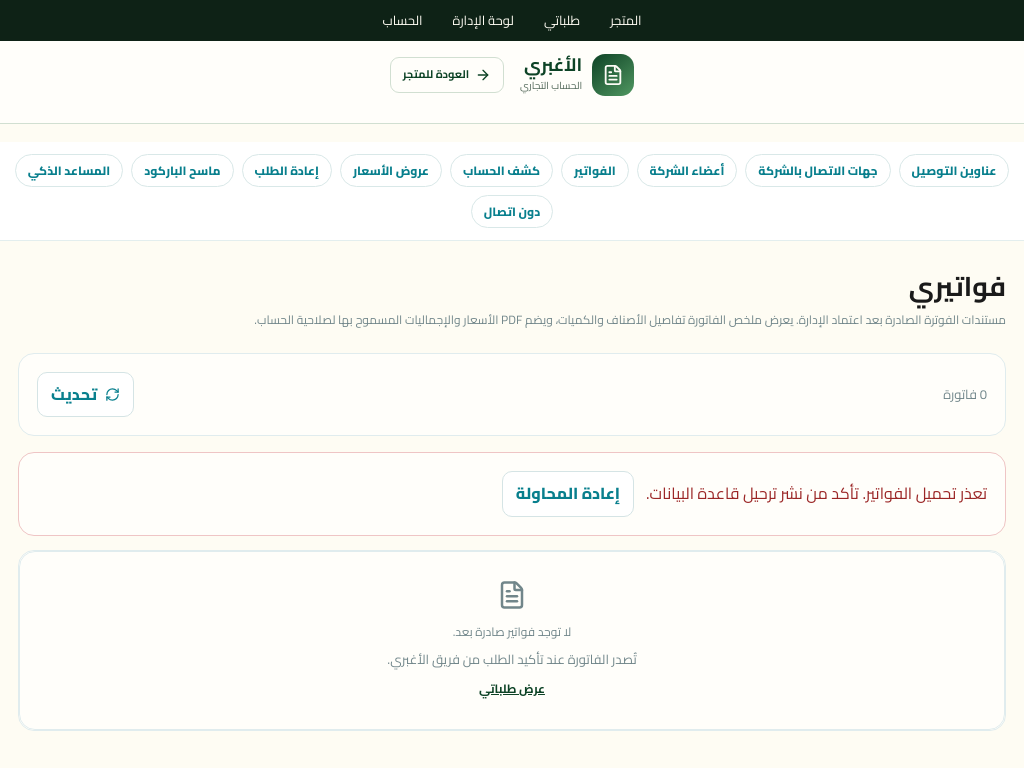
Test: customer invoices real route acceptance › shows a list-read error and recovers through the actual refresh action
Expected: the message "تعذر تحميل الفواتير. تأكد من نشر ترحيل قاعدة البيانات. إعادة المحاولة" is shown, [18, 452, 1006, 536]
Expected: the text "INV-TEST-001" is not shown
Click the button "تحديث".
click(86, 394)  # box [37, 372, 134, 417]
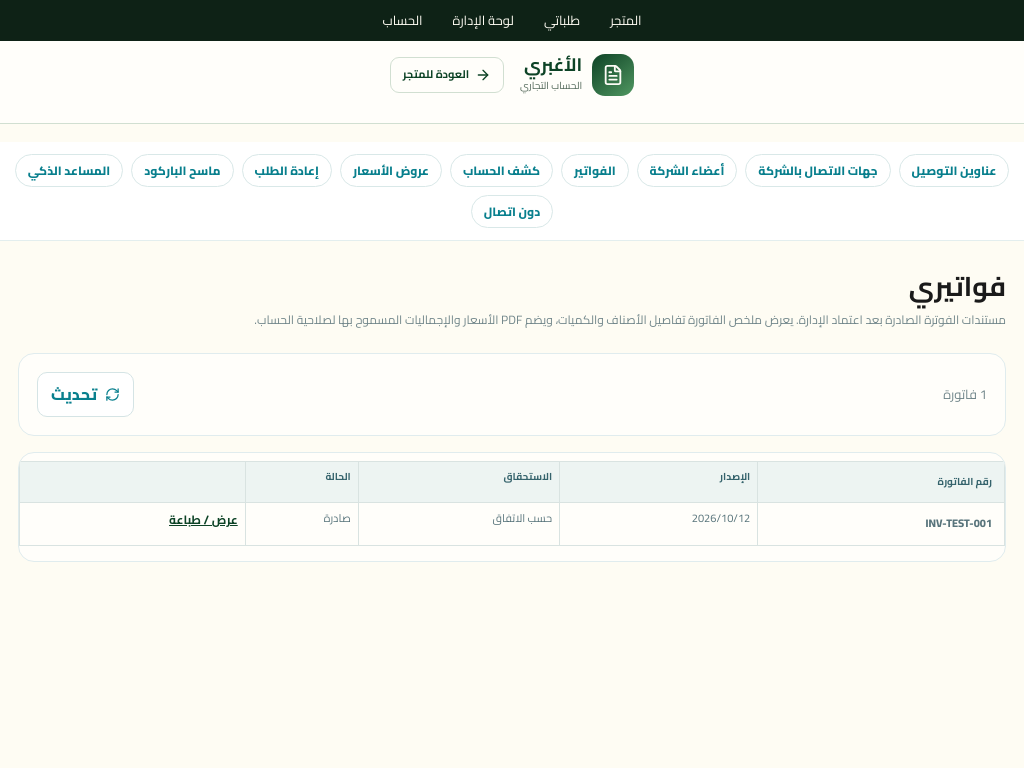
Result: the message "تعذر تحميل الفواتير. تأكد من نشر ترحيل قاعدة البيانات. إعادة المحاولة" is gone
Result: the text "INV-TEST-001" is shown at [758, 503, 1004, 545]
